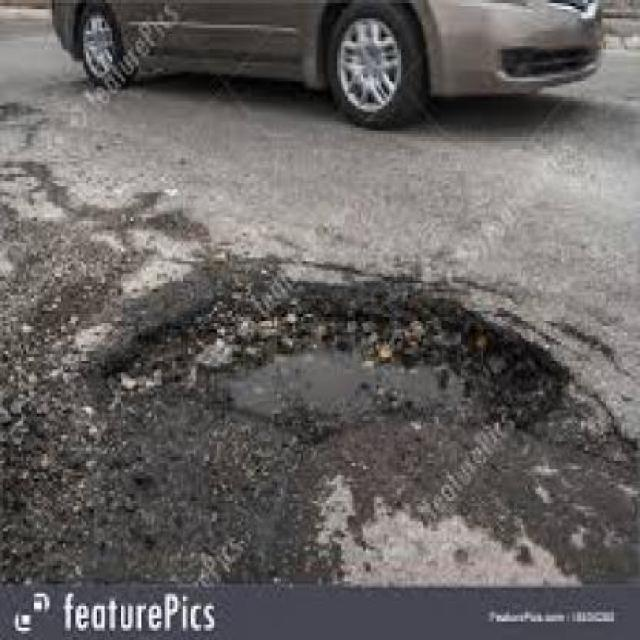pothole: (83, 258, 574, 440)
